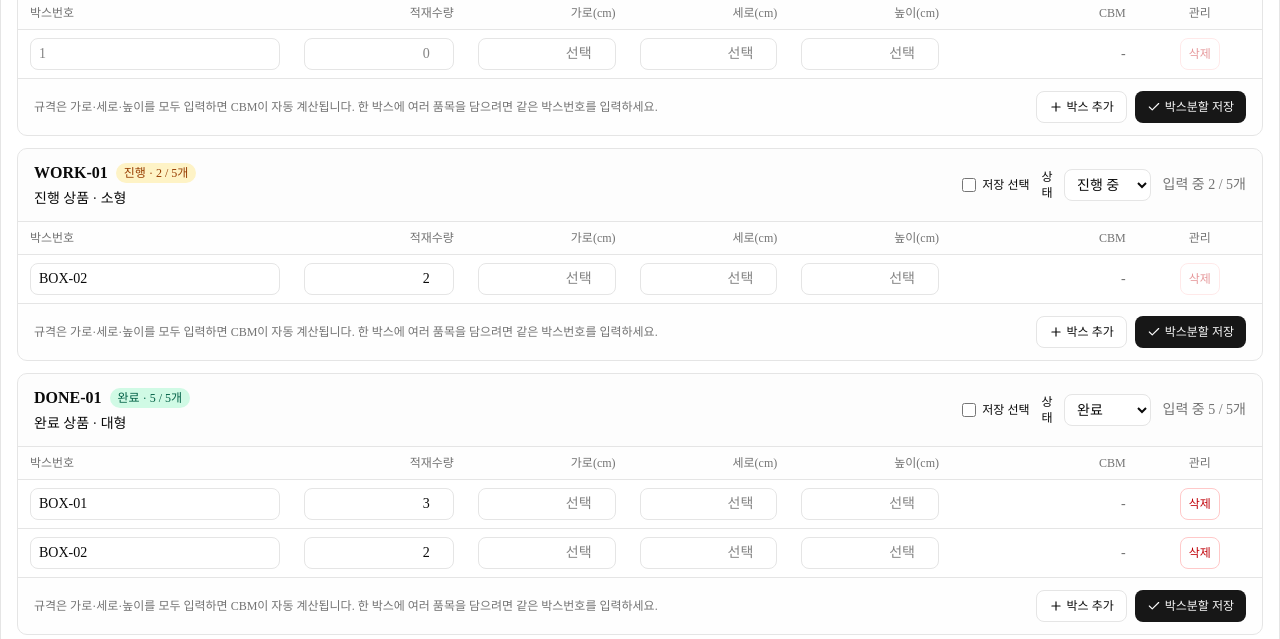
Test case: ChinaShipmentsBoard › filters completed items without losing a hidden box split draft
This screenshot has width=1280, height=639.
(page scrolled)
Replace the text in the 1st number field with placeholder "0" with "3" at {"x": 379, "y": 279}, box [304,263,454,295]
(page scrolled)
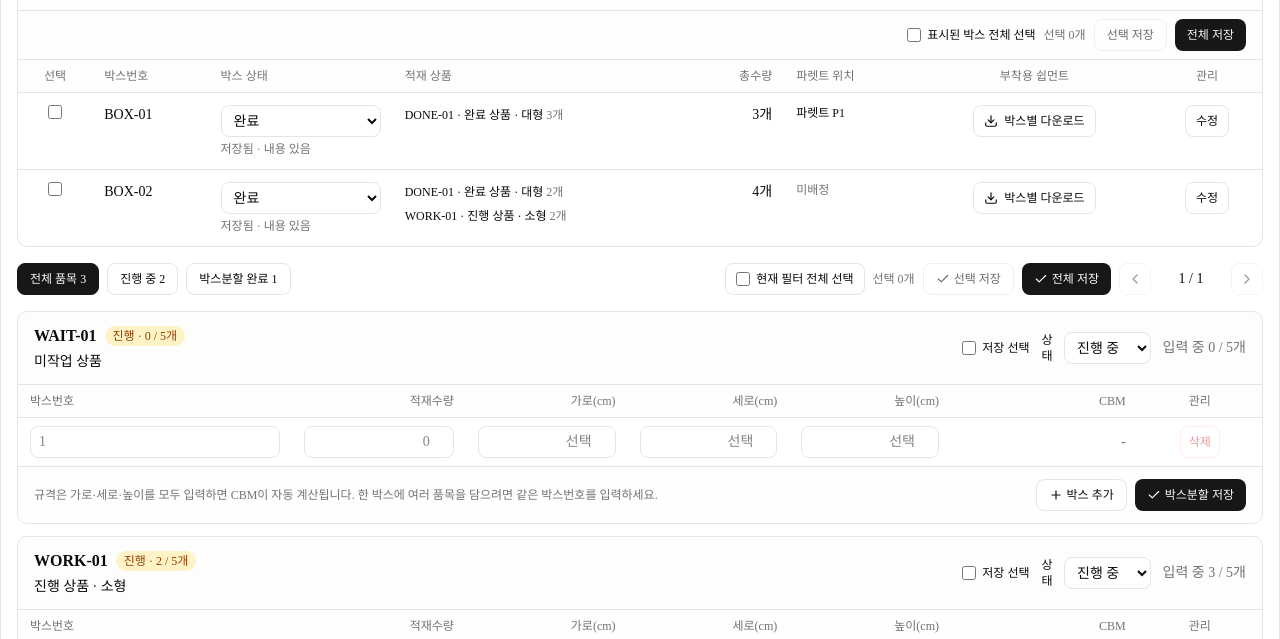
Click the button "박스분할 완료 1" at {"x": 238, "y": 279}, box [186,263,291,295]
(page scrolled)
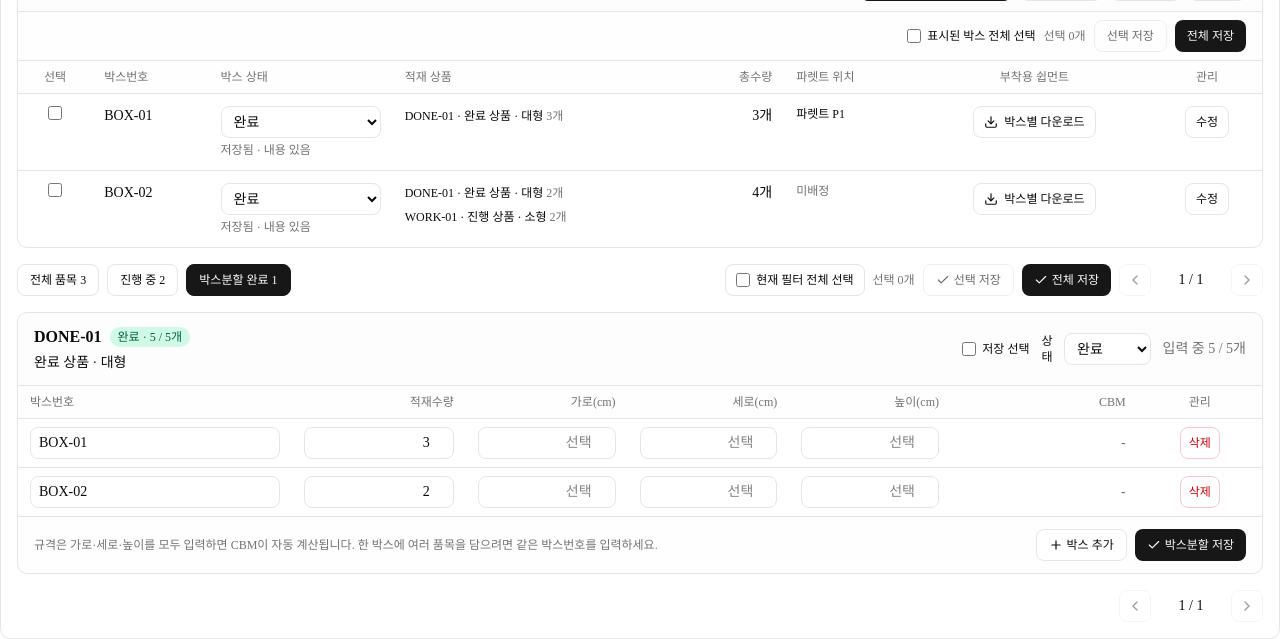
Check: the text "DONE-01" is shown, box [34,325,102,349]
Click the button "진행 중 2" at {"x": 143, "y": 280}, box [107,264,178,296]
(page scrolled)
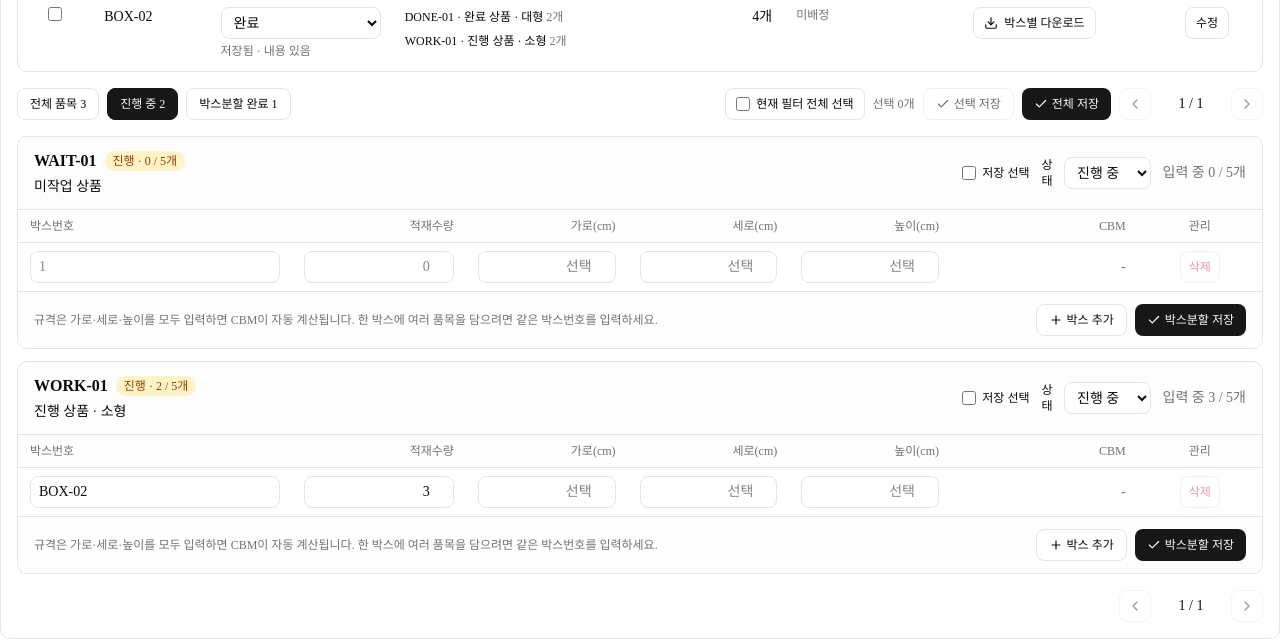
Check: the text "WORK-01" is shown, box [34,374,108,398]
Check: the text "WAIT-01" is shown, box [34,149,96,173]
Check: the number field with placeholder "0" holds "3", box [304,476,454,508]
